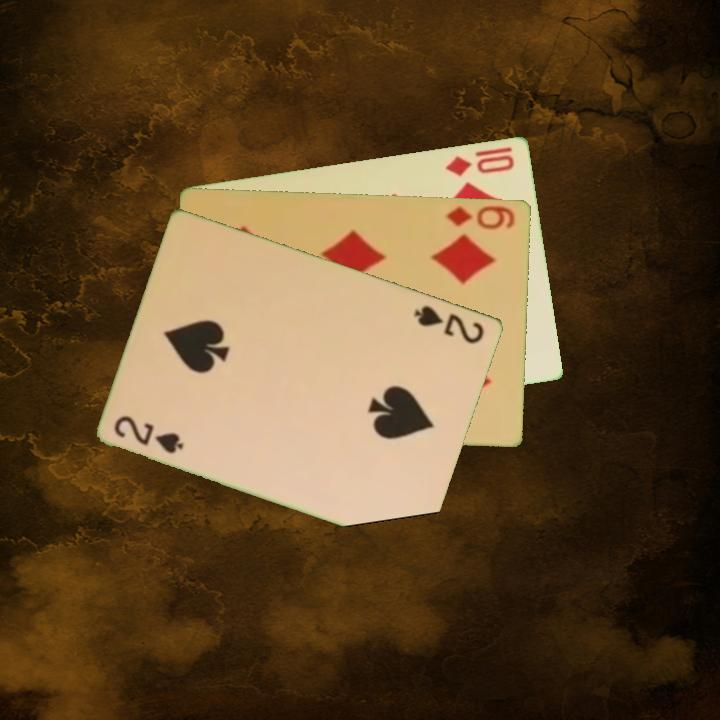10d: (442, 151, 518, 179)
2s: (411, 301, 488, 347), (111, 411, 187, 456)
6d: (442, 201, 518, 232)
